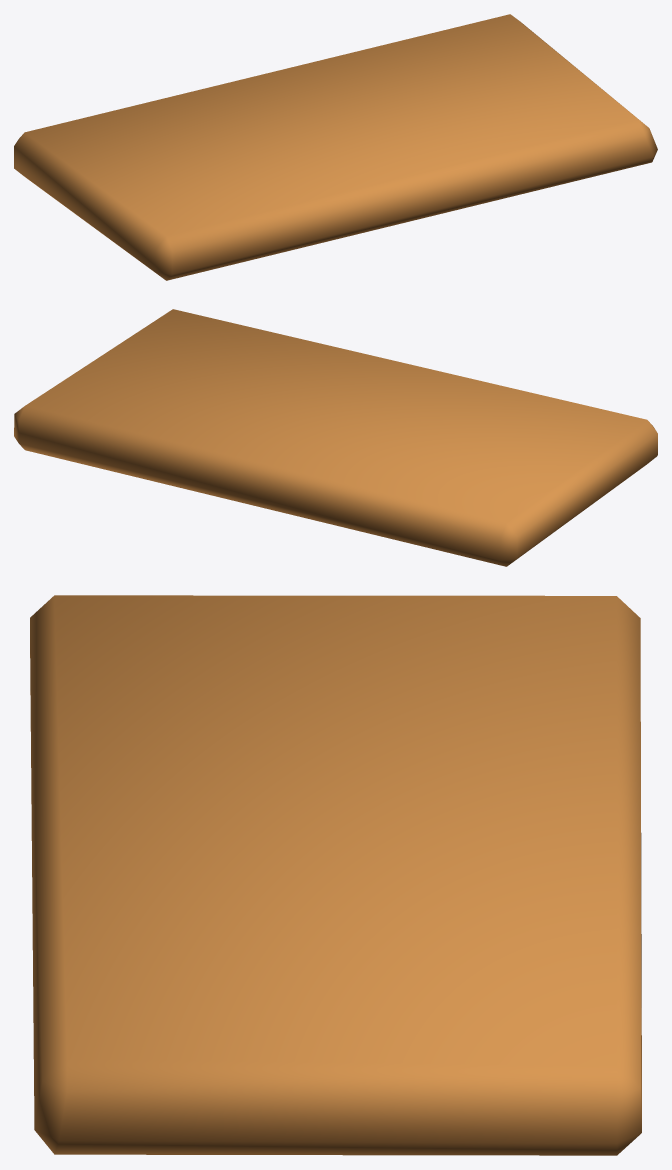
File: slab_c_lo.glb
3 views of the same model, one above another, from view 1: azimuth 30°, elevation 25°; view 2: azimuth 150°, elevation 25°; view 3: azimuth 270°, elevation 25° (orthographic). The views are drawn at different scales.
Parts seen in each view (by area): view 1: slab_c_lo; view 2: slab_c_lo; view 3: slab_c_lo.
Part boxes in pixels (x1,y1,x2,y2): slab_c_lo: (14, 14, 657, 280); slab_c_lo: (14, 309, 657, 566); slab_c_lo: (30, 595, 641, 1155).
Size of the model in its own units: 1.9 by 0.1626 by 1.
